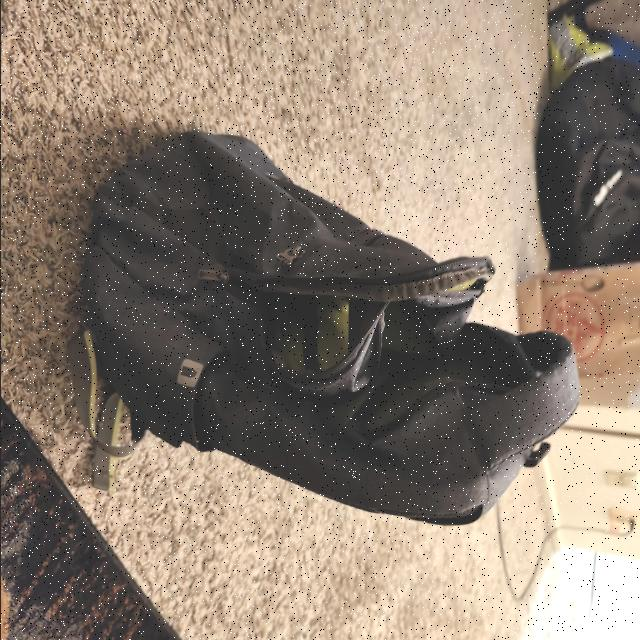bag: (91, 117, 579, 542)
